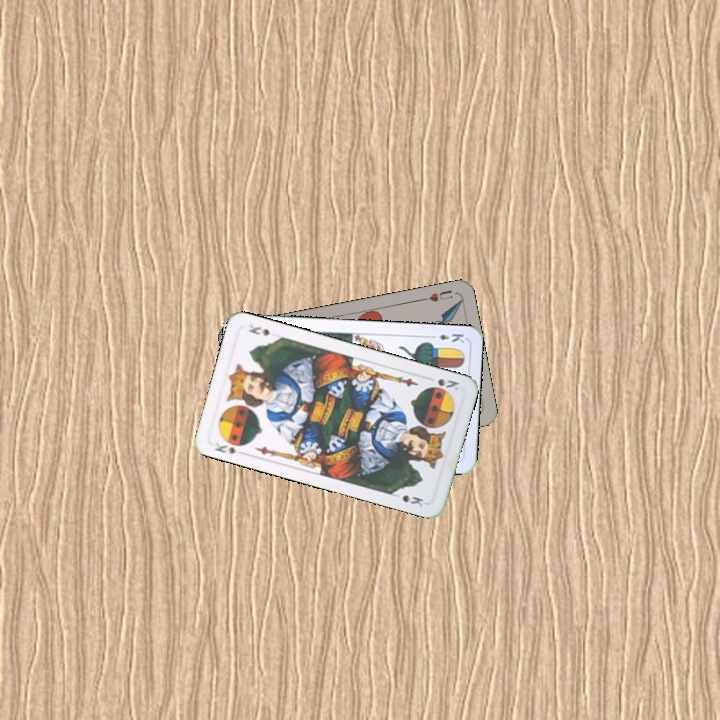EK: (426, 329, 466, 345)
HU: (418, 286, 455, 304)
SK: (434, 374, 462, 394), (211, 437, 238, 457)
